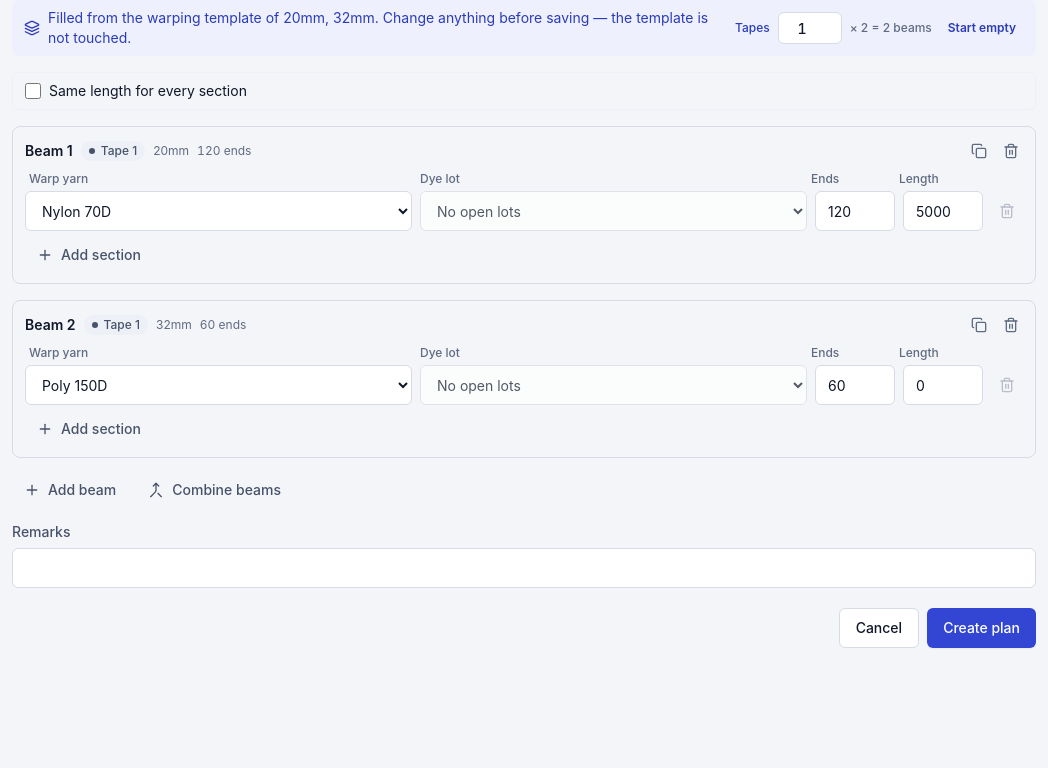
Test: filling the plan form from the elastics' templates › can be emptied, and filled again
Check: the text "Beam 2" is shown, box [25,315,76,335]
Click the button "Start empty" at x=982, y=28, box [940,16,1024,40]
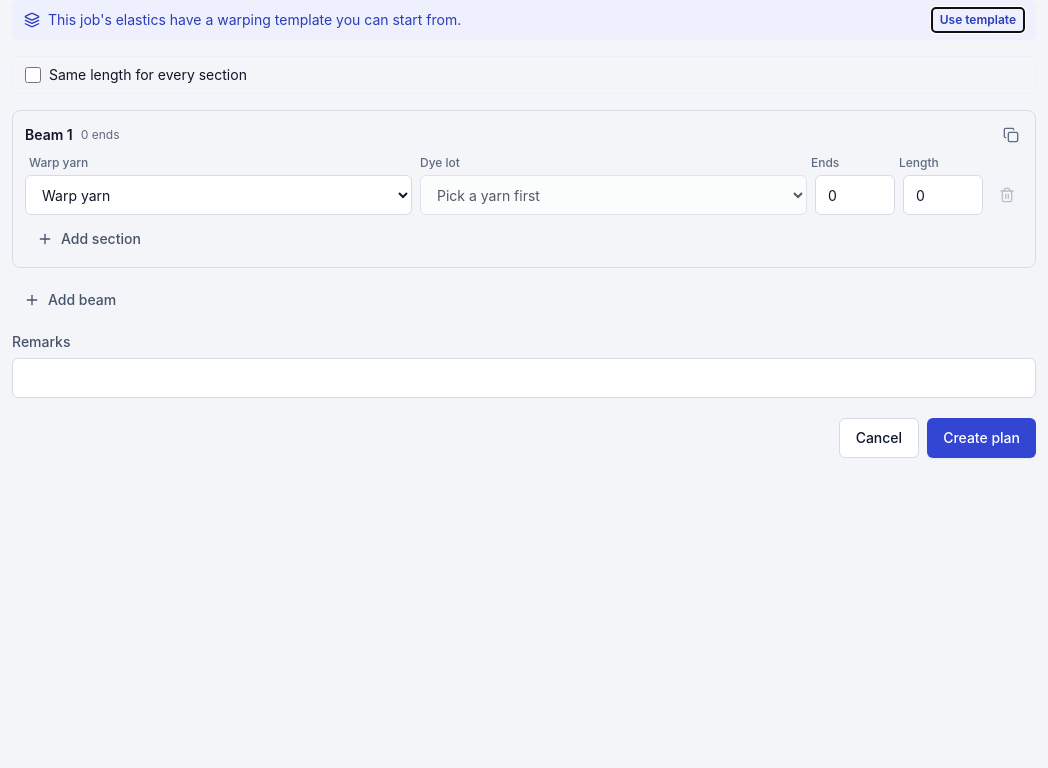
Check: the text "Beam 2" is gone
Check: the text "have a warping template you can start from" is shown, box [48,11,461,28]
Click the button "Use template" at x=978, y=20, box [932,8,1024,32]
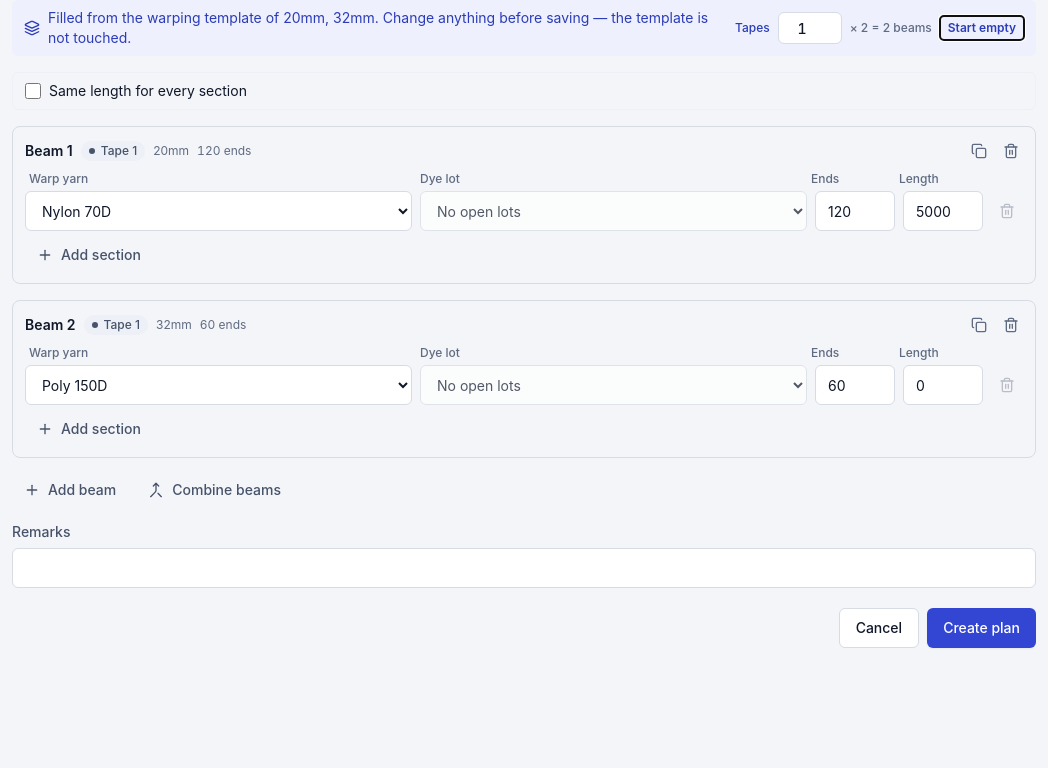
Check: the text "Beam 2" is shown, box [25,315,76,335]
